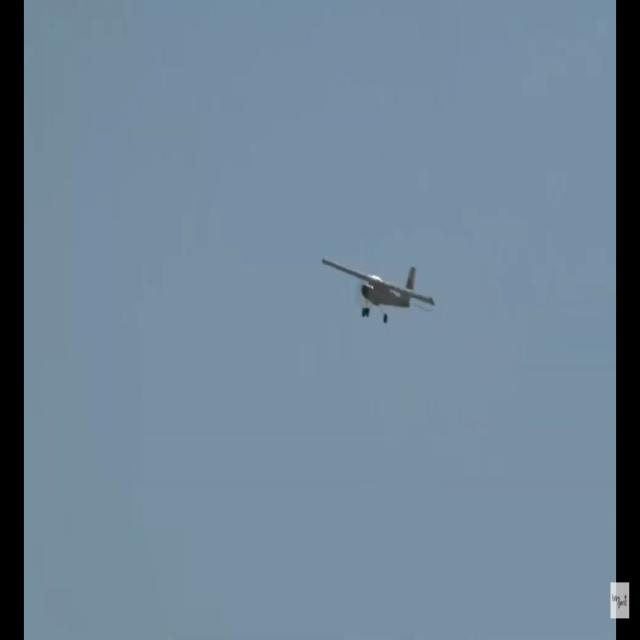iha: (348, 280, 404, 300)
